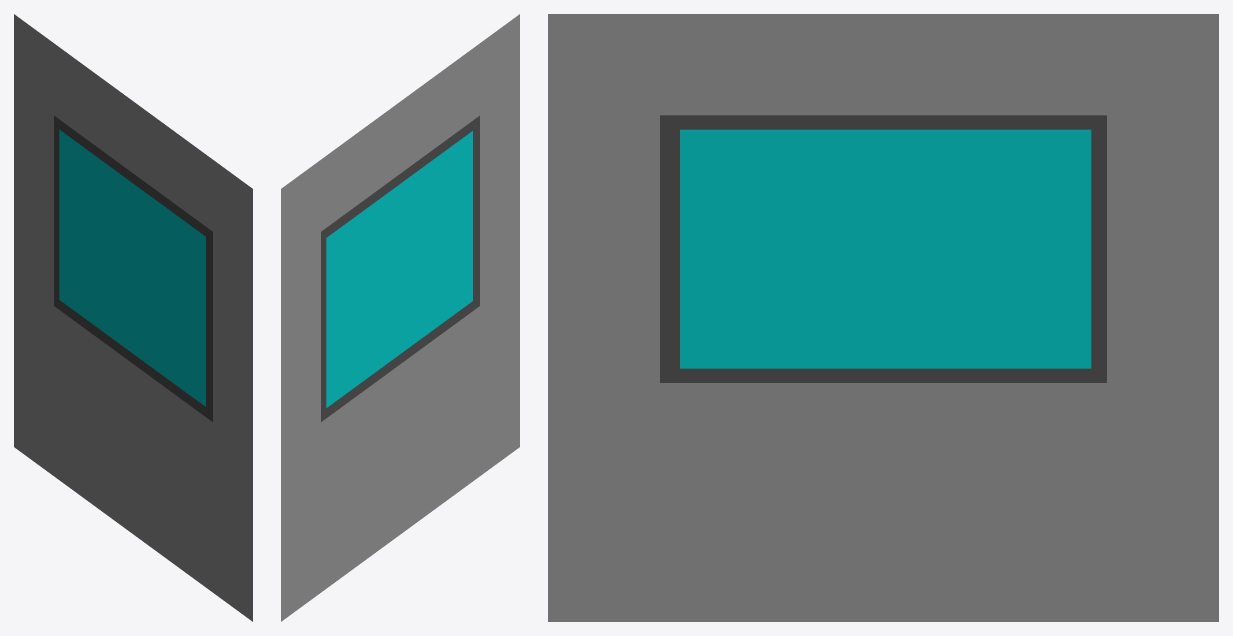
The model's file is kitsch_wall_wall_02_LOD1.fbx.
3 views of the same model, side by side, from view 1: azimuth 30°, elevation 25°; view 2: azimuth 150°, elevation 25°; view 3: azimuth 270°, elevation 25° (orthographic). The views are drawn at different scales.
Parts seen in each view (by area): view 1: kitsch_wall_wall_02_LOD1; view 2: kitsch_wall_wall_02_LOD1; view 3: kitsch_wall_wall_02_LOD1.
Part boxes in pixels (x1,y1,x2,y2): kitsch_wall_wall_02_LOD1: (14,14,252,621); kitsch_wall_wall_02_LOD1: (281,14,519,621); kitsch_wall_wall_02_LOD1: (548,14,1218,621).
Bounding box in the file's own units: 7.63e-08 × 3 × 3.
